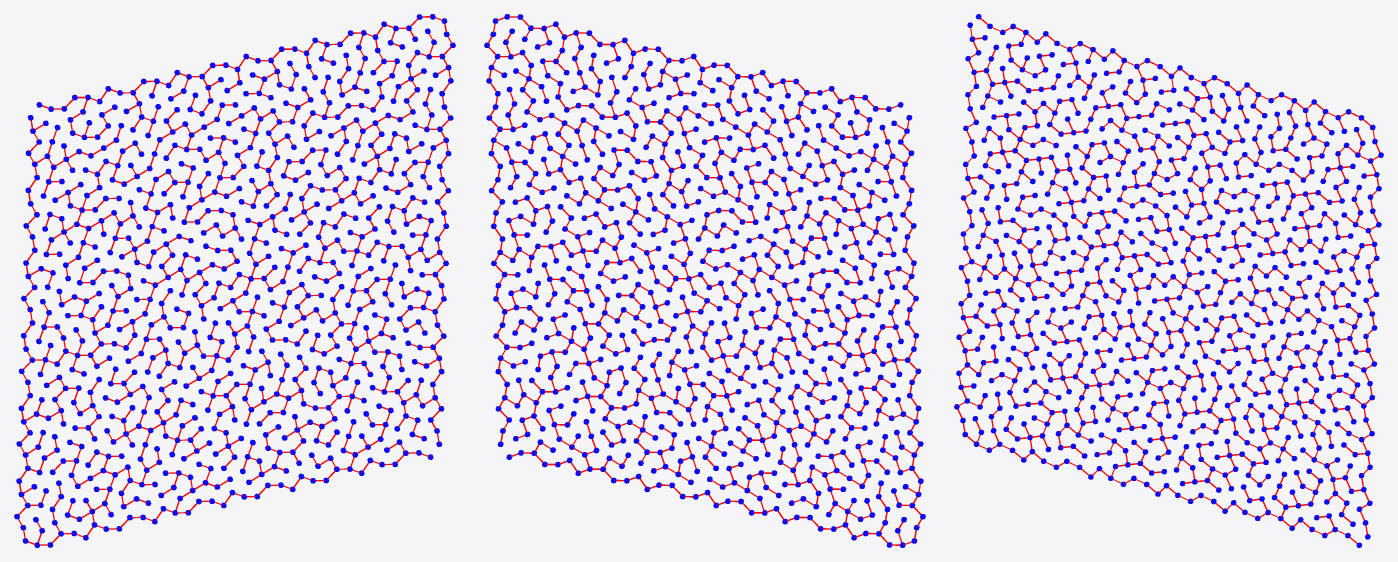
The model's file is Kershner8Maze3.glb.
3 views of the same model, side by side, from view 1: azimuth 30°, elevation 25°; view 2: azimuth 150°, elevation 25°; view 3: azimuth 330°, elevation 25° (orthographic). The views are drawn at different scales.
Size of the model in its own units: 0.9834 by 0.9655 by 0.012.
